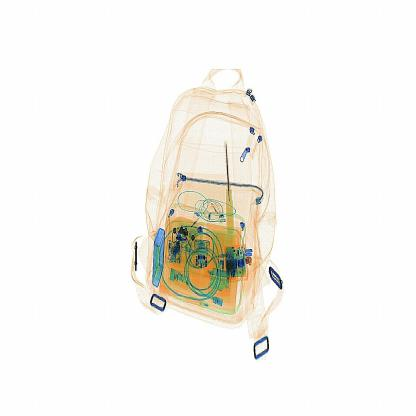wrench: (221, 140, 237, 238)
